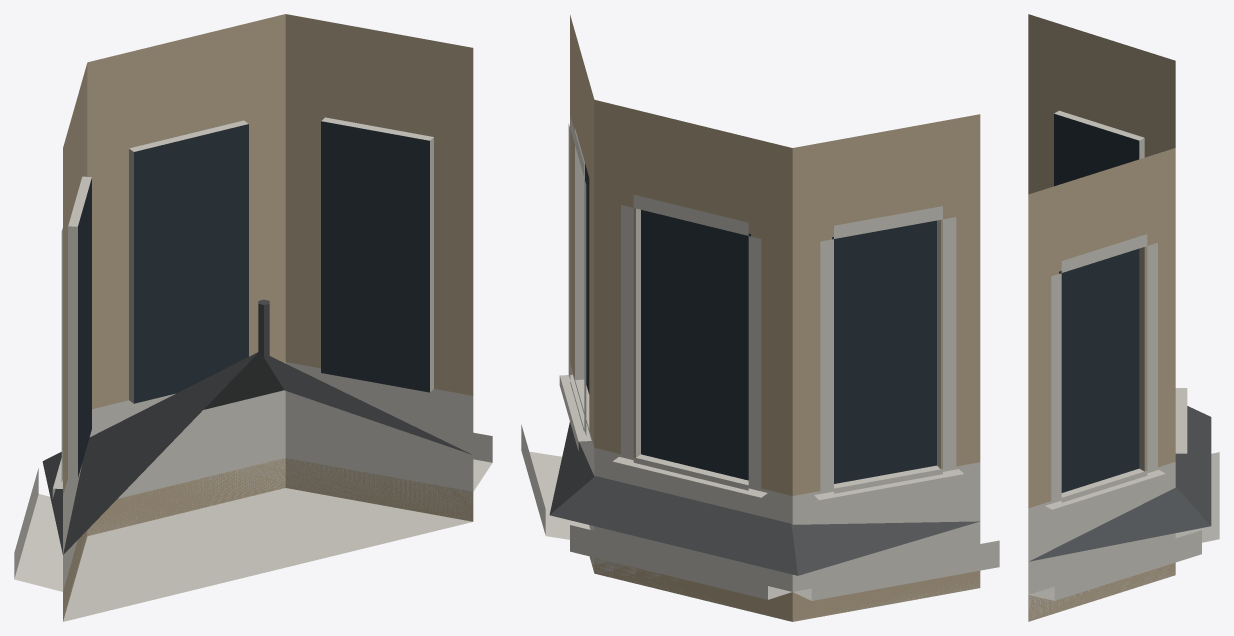
Rendered from bay-queen-anne.glb.
3 renders of one model, left to right at view 1: azimuth 30°, elevation 25°; view 2: azimuth 150°, elevation 25°; view 3: azimuth 270°, elevation 25°, orthographic. The views are drawn at different scales.
Visible parts, largest first — view 1: storey, cap; view 2: storey, cap; view 3: storey, cap.
Part boxes in pixels (<box>): storey: <box>52,14,473,621</box>; cap: <box>14,299,492,620</box>; storey: <box>559,15,980,621</box>; cap: <box>521,422,999,621</box>; storey: <box>1028,14,1187,621</box>; cap: <box>1028,406,1219,621</box>.
Size of the model in its own units: 3.38 by 3.2 by 1.3.
